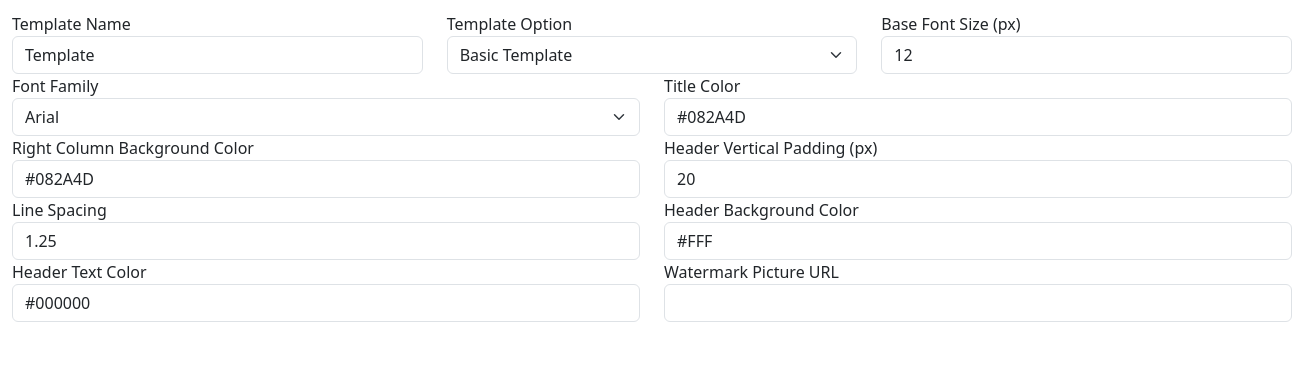
TemplateForm › handles invalid color format
Enter invalid color value
Replace the text in the field labelled "Title Color" with "invalid-color" at (978, 117), box left=664, top=98, right=1292, bottom=136
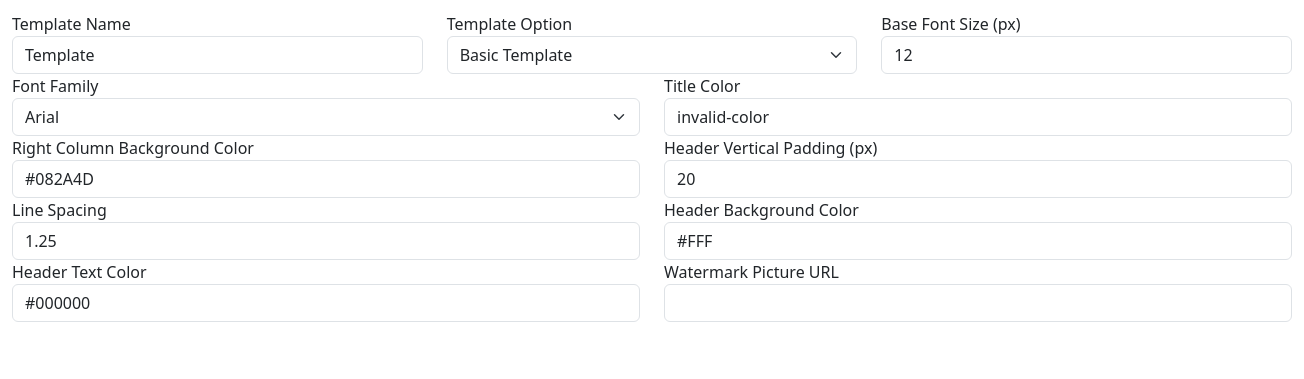
Leave the field labelled "Title Color", box left=664, top=98, right=1292, bottom=136
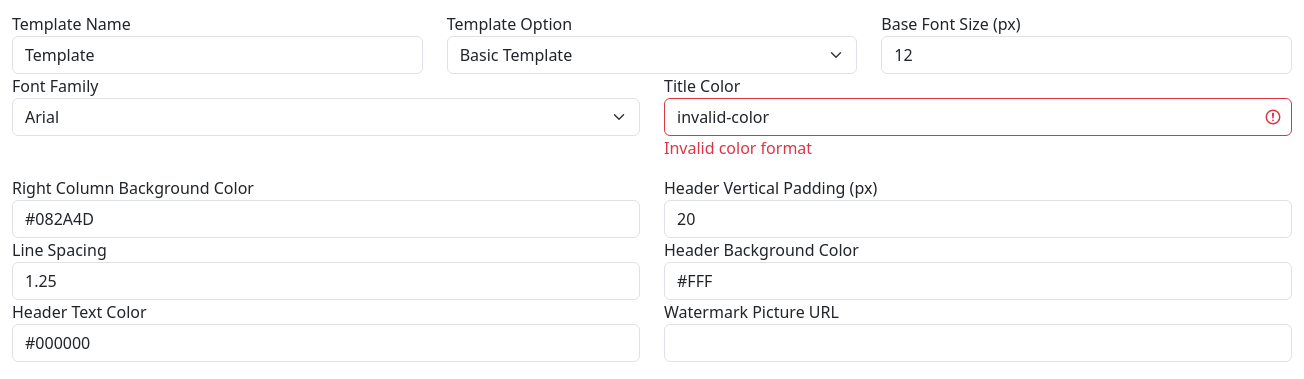
Now the text "Invalid color format" is shown, box left=664, top=137, right=812, bottom=159
